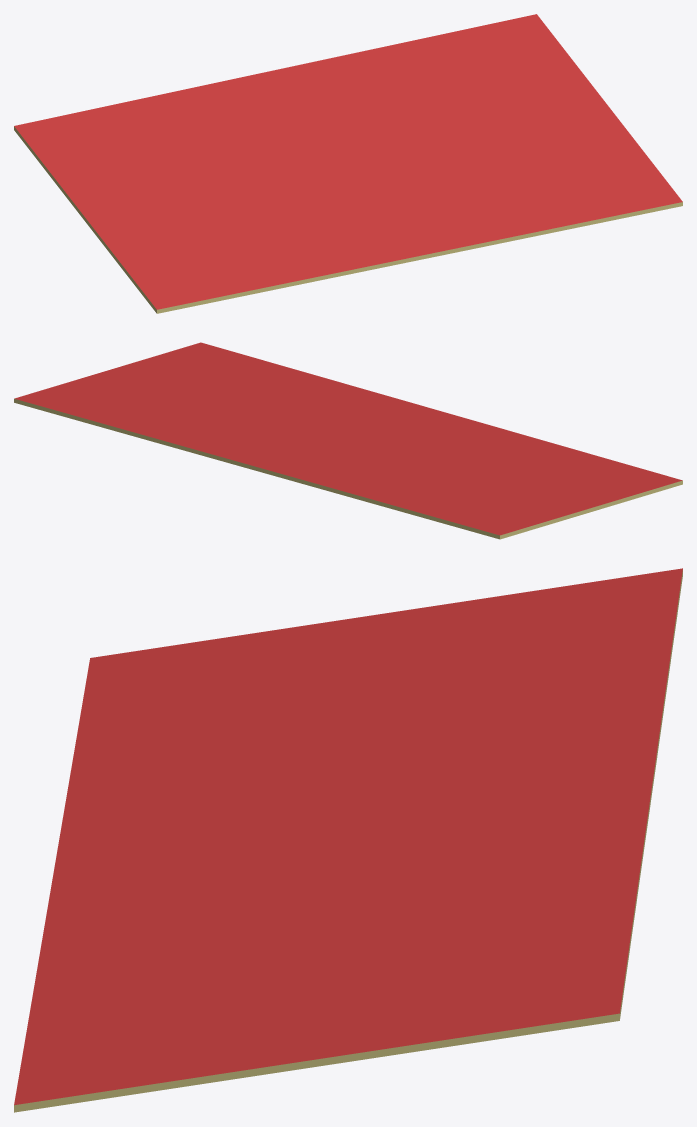
3 views of the same model, one above another, from view 1: azimuth 30°, elevation 25°; view 2: azimuth 150°, elevation 25°; view 3: azimuth 270°, elevation 25° (orthographic). The views are drawn at different scales.
Bounding box in the file's own units: 13.55 × 8.23 × 1.59.
